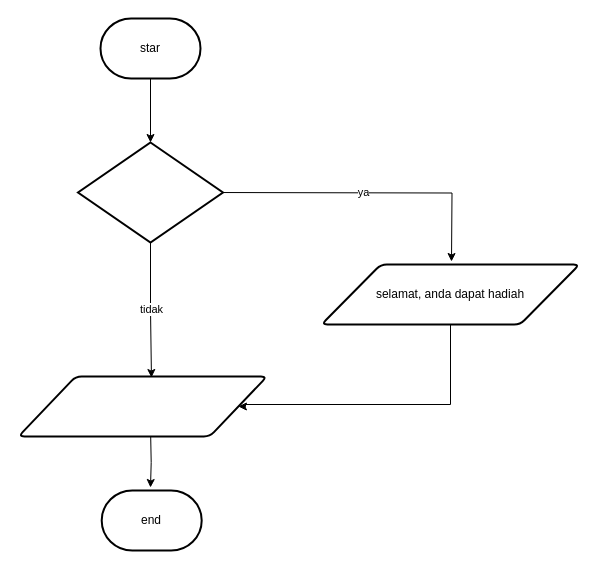
The diagram is 597 pixels wide and 568 high, and some of its shapes have lost their labels. The shapes that lost their labels are listed below. From the top down, each one's centre as x and y in pixels, then its label:
[150,192]: total belanja di atas 100.000
[142,406]: terimakasih sudah berbelanja
